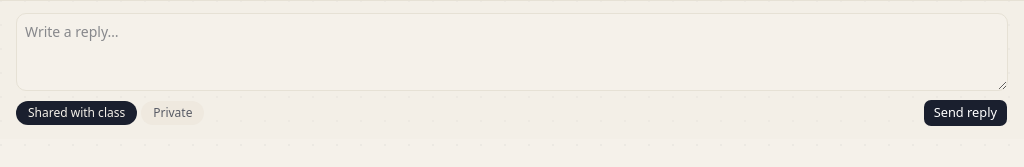
Test: InboxReplyComposer (AC7) › blocks an empty reply with an i18n validation error
The width and height of the screenshot is (1024, 167).
Click the button "Send reply" at (965, 113), box [923,99,1008,127]
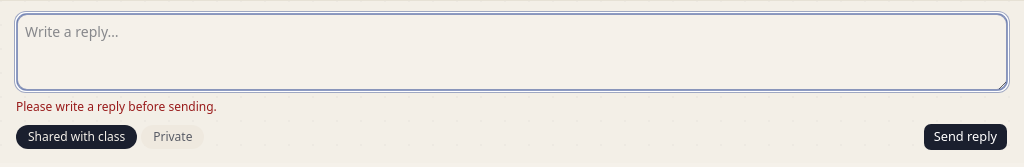
Now the text "Please write a reply before sending." is shown, box [16,98,217,115]
